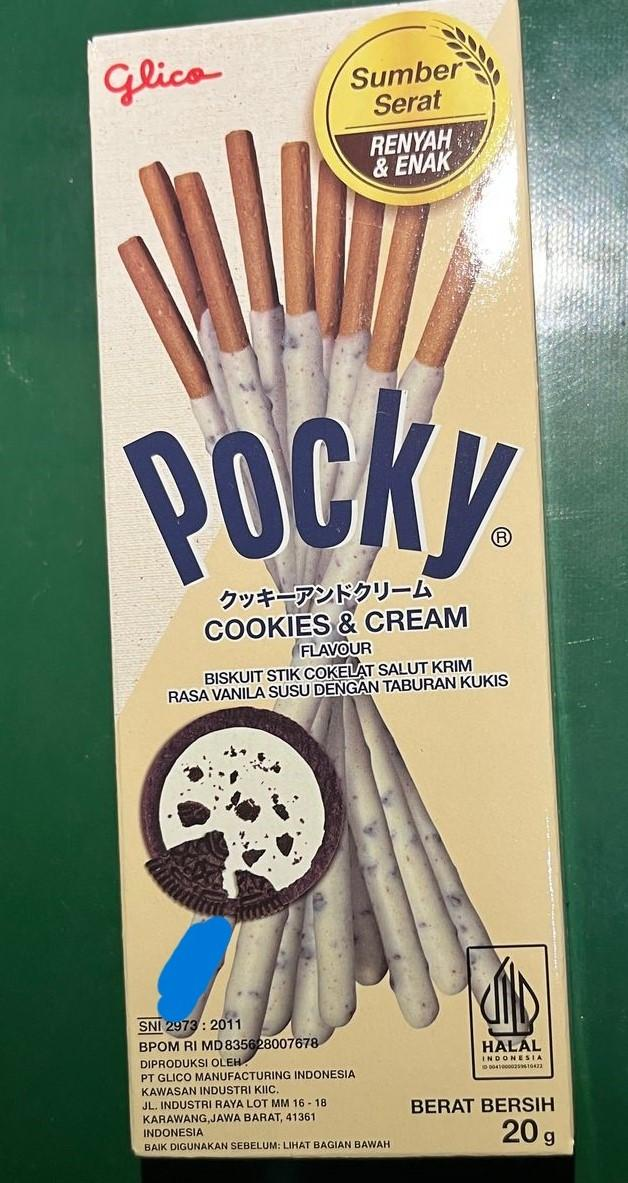Kertas: (82, 0, 578, 1158)
